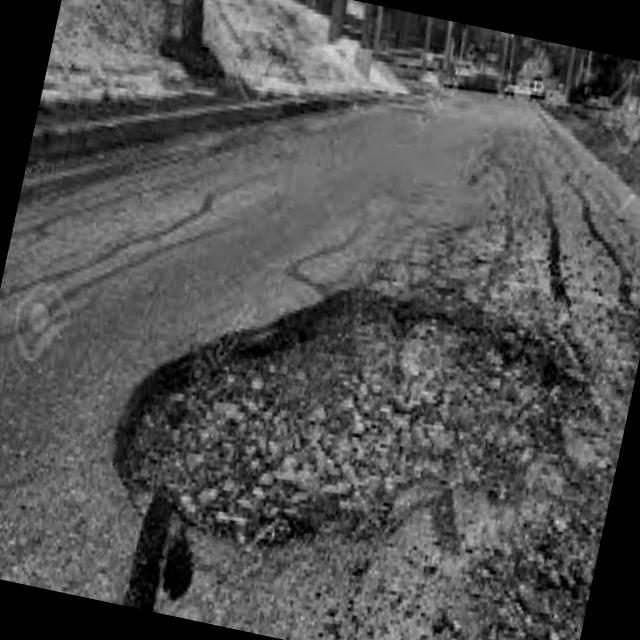Pathole: (120, 285, 552, 569)
